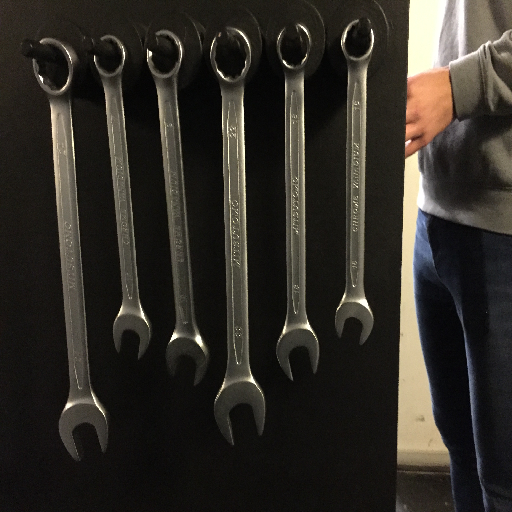bottom: (211, 382, 271, 448), (54, 402, 115, 463), (161, 332, 212, 393), (273, 324, 325, 382), (109, 306, 154, 360), (332, 298, 375, 347)
top: (26, 37, 85, 98), (206, 26, 254, 86), (142, 29, 186, 82), (273, 20, 315, 72), (339, 17, 378, 63), (89, 33, 126, 79)
